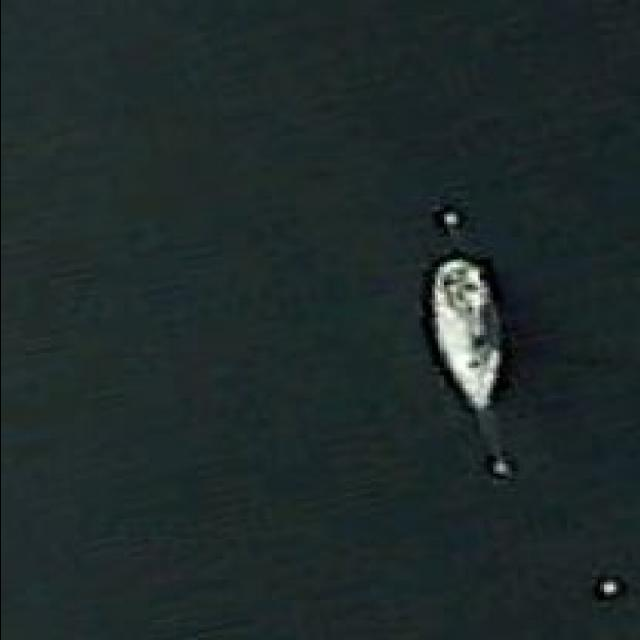ship: (424, 256, 508, 418)
